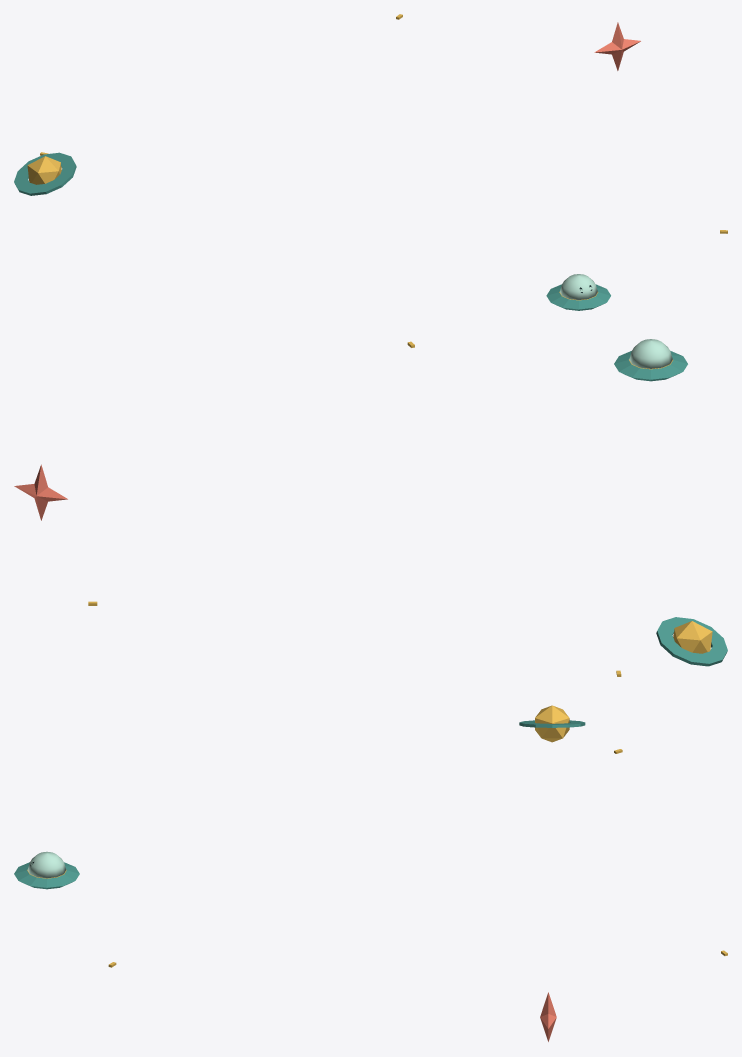
File: effect-pocket-galaxy.glb
3 views of the same model, one above another, from view 1: azimuth 30°, elevation 25°; view 2: azimuth 150°, elevation 25°; view 3: azimuth 270°, elevation 25° (orthographic). The views are drawn at different scales.
Visible parts, largest first — view 1: effect-pocket-galaxy_orbit_effect-pocket-galaxy__root_mesh; view 2: effect-pocket-galaxy_orbit_effect-pocket-galaxy__root_mesh; view 3: effect-pocket-galaxy_orbit_effect-pocket-galaxy__root_mesh.
Part boxes in pixels (box(x1,y1,x2,y2)): effect-pocket-galaxy_orbit_effect-pocket-galaxy__root_mesh: box(14, 14, 727, 310); effect-pocket-galaxy_orbit_effect-pocket-galaxy__root_mesh: box(14, 339, 727, 676); effect-pocket-galaxy_orbit_effect-pocket-galaxy__root_mesh: box(14, 705, 727, 1041).
Size of the model in its own units: 1.82 by 0.1501 by 1.79.
